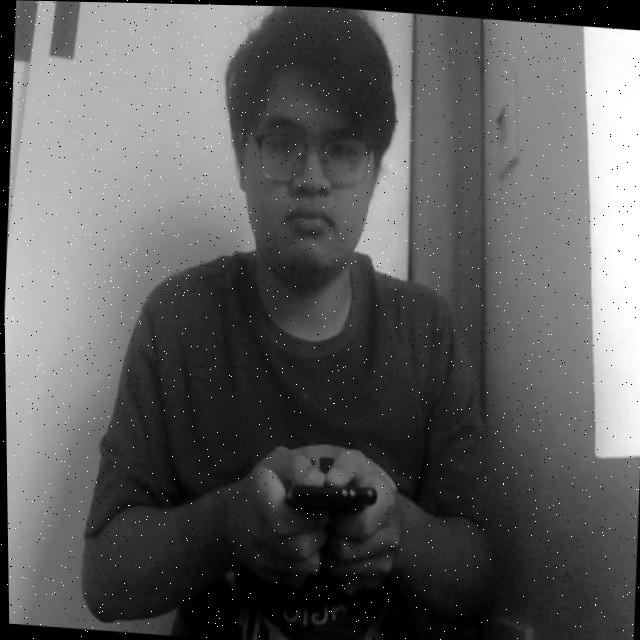phone: (252, 441, 393, 548)
